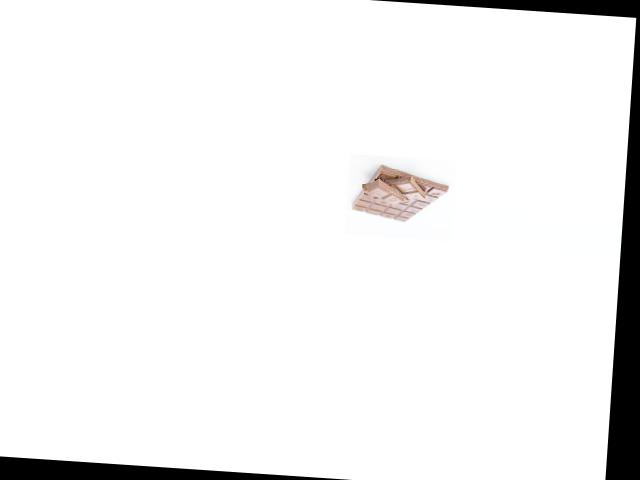chocolate: (349, 158, 451, 229)
